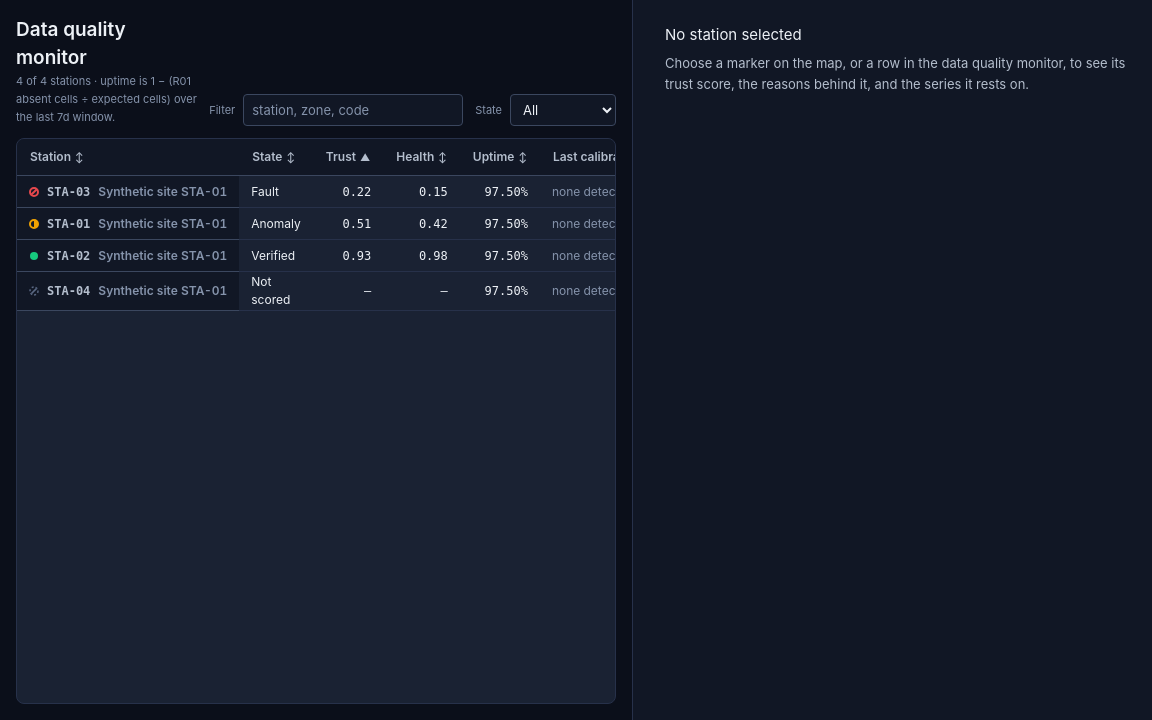
Test: QualityMonitor › says so when a filter matches nothing
Type "no-such-station" into the search field with test id "quality-filter" at (353, 110), box [243,94,463,126]
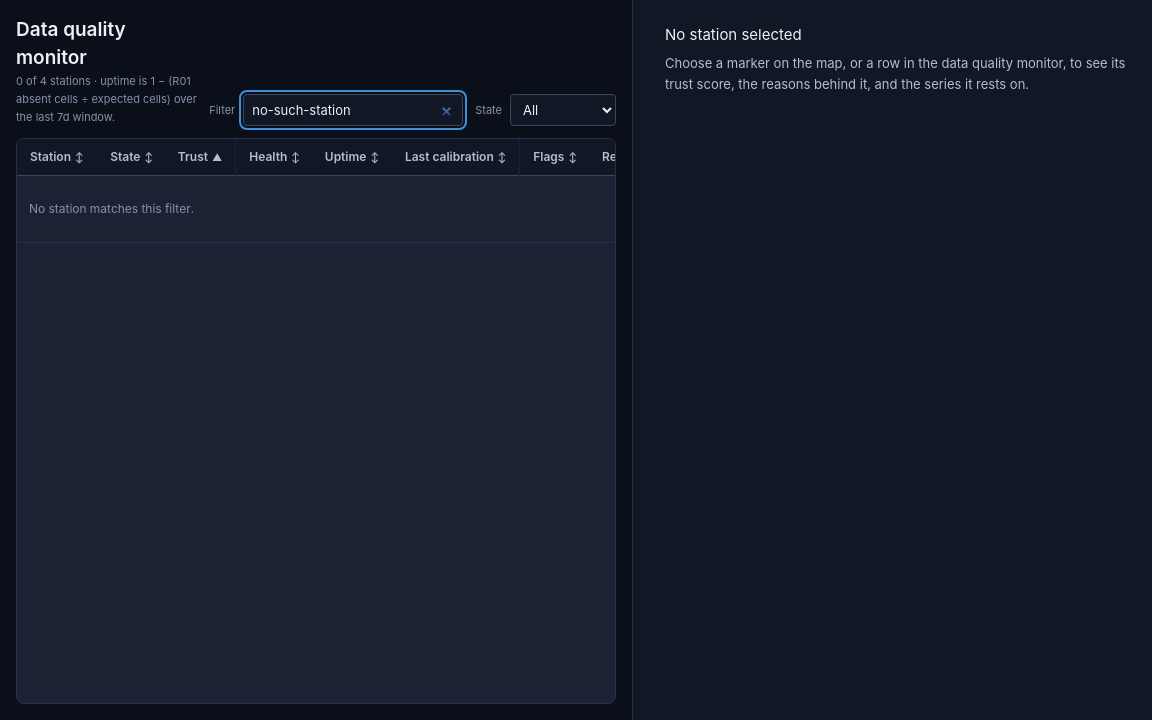
Now the text "No station matches this filter." is shown, box [17,176,615,243]
